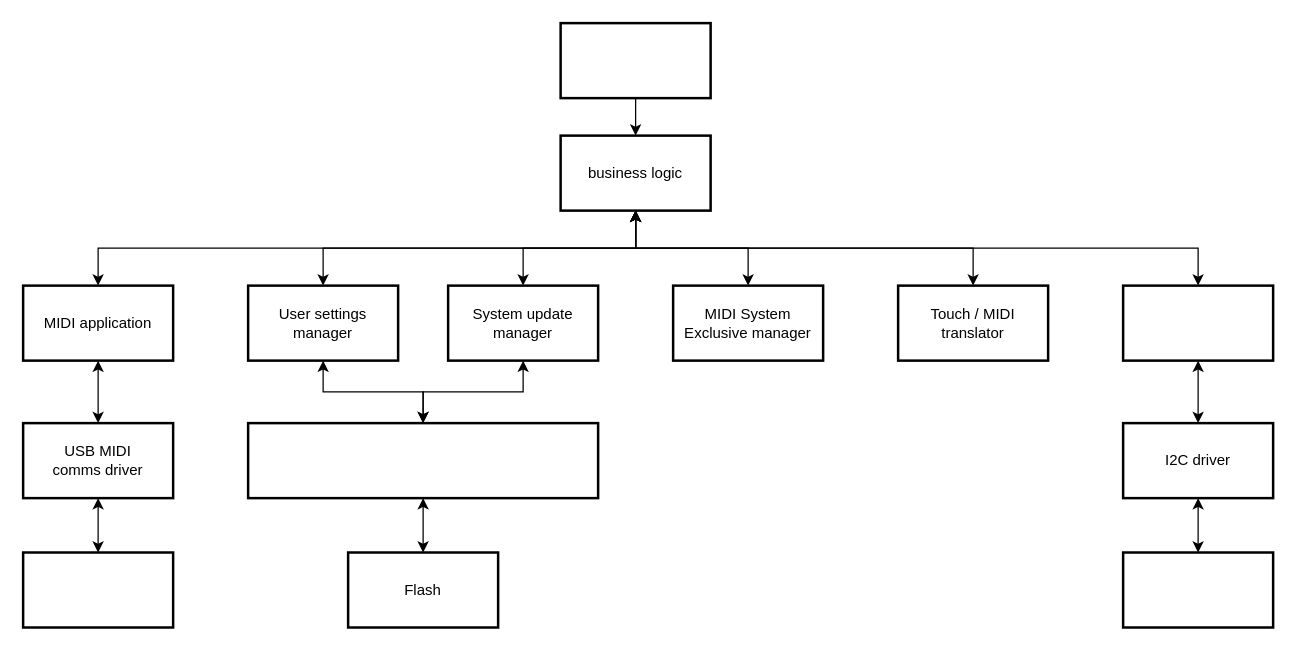
The diagram is 1295 pixels wide and 650 high, and some of its shapes have lost their labels. The centre of each missing label's shape, as x and y in pixels:
Flash driver: the point at 422,460
I2C port: the point at 1197,589
main: the point at 635,60
tinyUSB: the point at 97,589
Touch event manager: the point at 1197,322
